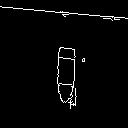cube: (48, 39, 82, 92)
